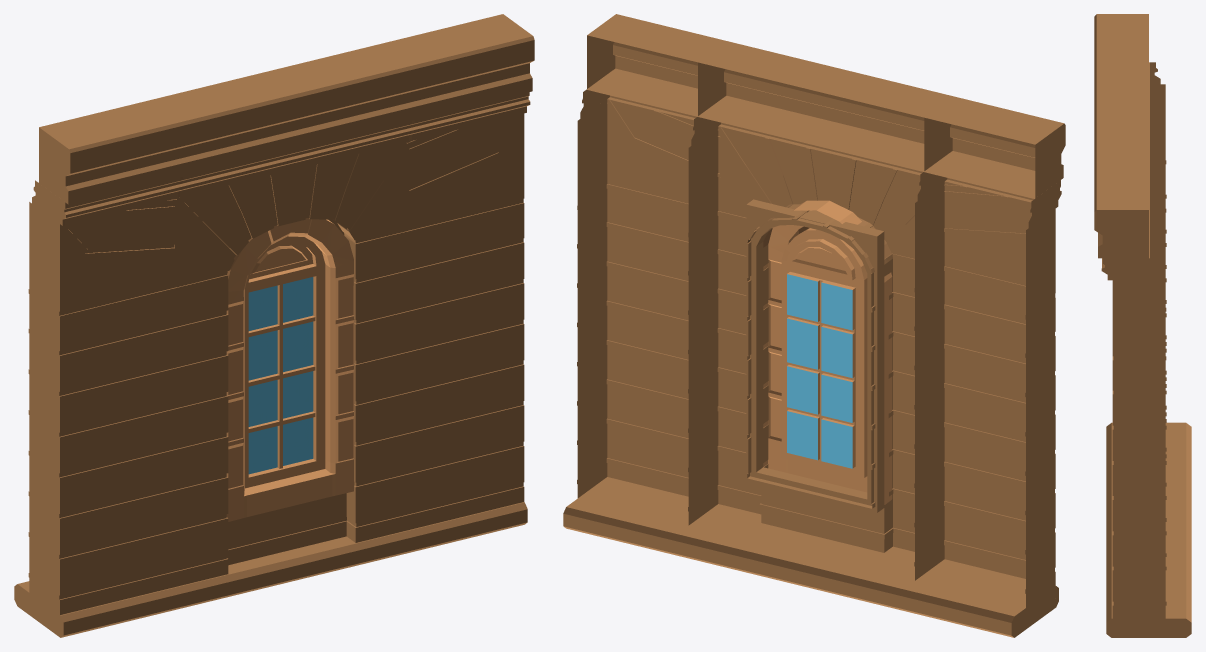
Rendered from O_V_FacadeType1_Down.fbx.
3 renders of one model, left to right at view 1: azimuth 30°, elevation 25°; view 2: azimuth 150°, elevation 25°; view 3: azimuth 270°, elevation 25°, orthographic. The views are drawn at different scales.
Parts seen in each view (by area): view 1: O_FacadeType1_Down; view 2: O_FacadeType1_Down; view 3: O_FacadeType1_Down.
Boxes of the visible parts, <box> form: O_FacadeType1_Down: <box>14,14,534,637</box>; O_FacadeType1_Down: <box>563,14,1065,637</box>; O_FacadeType1_Down: <box>1094,14,1191,637</box>.
Bounding box in the file's own units: 6.38 × 6.5 × 1.34.
